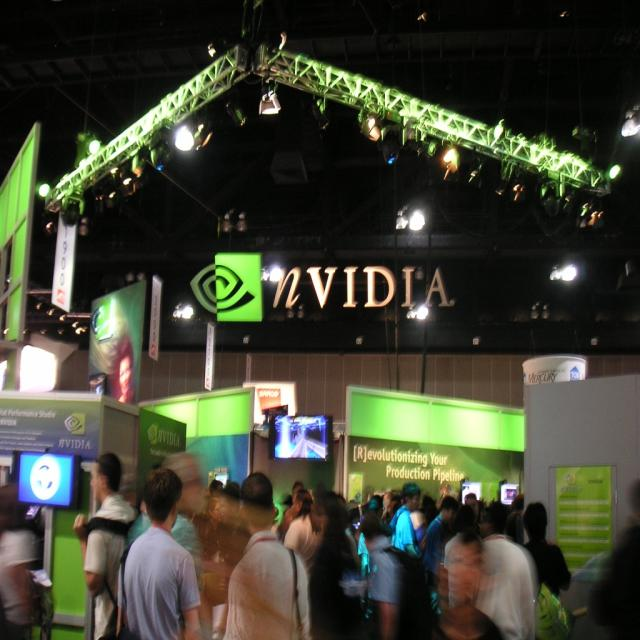nvidia: (190, 254, 264, 324), (64, 413, 87, 435), (147, 425, 159, 445)
